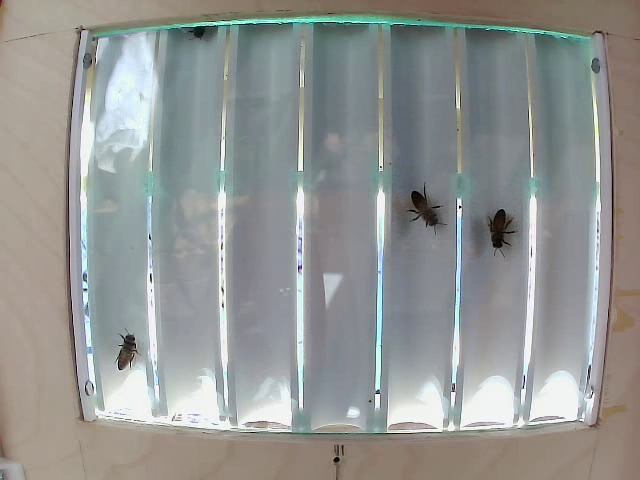bee: (403, 177, 450, 254), (489, 197, 519, 267), (111, 325, 145, 386)
